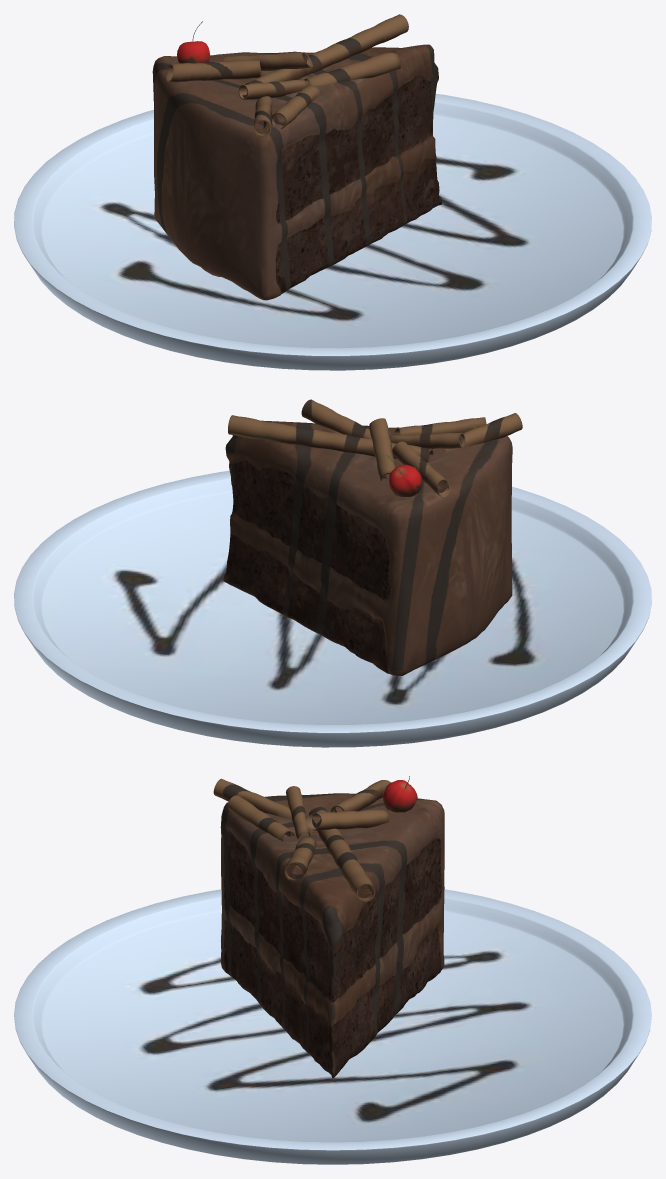
File: cake.glb
3 renders of one model, top to bottom at view 1: azimuth 30°, elevation 25°; view 2: azimuth 150°, elevation 25°; view 3: azimuth 270°, elevation 25°, orthographic.
Visible parts, largest first — view 1: Plate, Dessert_low, poura, Sphere; view 2: Plate, Dessert_low, poura, Sphere; view 3: Plate, Dessert_low, poura, Sphere.
Part boxes in pixels (x1,y1,x2,y2): Plate: (14,93,651,370); Dessert_low: (152,44,441,300); poura: (166,14,408,136); Sphere: (177,21,209,63); Plate: (14,470,651,747); Dessert_low: (223,420,512,675); poura: (228,399,522,497); Sphere: (386,454,421,496); Plate: (14,889,651,1164); Dessert_low: (220,793,444,1078); poura: (213,778,390,901); Sphere: (383,776,417,812).
Bounding box in the file's own units: 47.49 × 17.58 × 47.49.
Materials: 1 (1 with a texture image).
